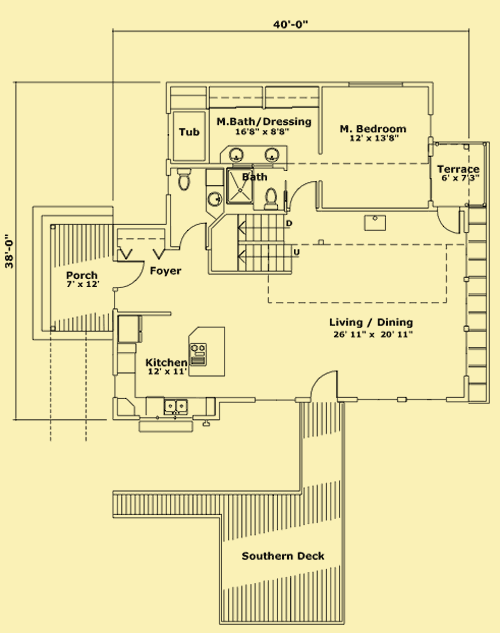door: (297, 366, 346, 403), (111, 256, 148, 297), (429, 201, 462, 238), (177, 221, 210, 256), (289, 179, 320, 212)
kitchen bar: (185, 322, 232, 380)
large sink: (254, 185, 281, 213), (173, 166, 195, 195)
small sink: (217, 140, 291, 164), (203, 170, 224, 213)
stairs: (209, 217, 300, 280)
tub: (171, 111, 210, 162)
